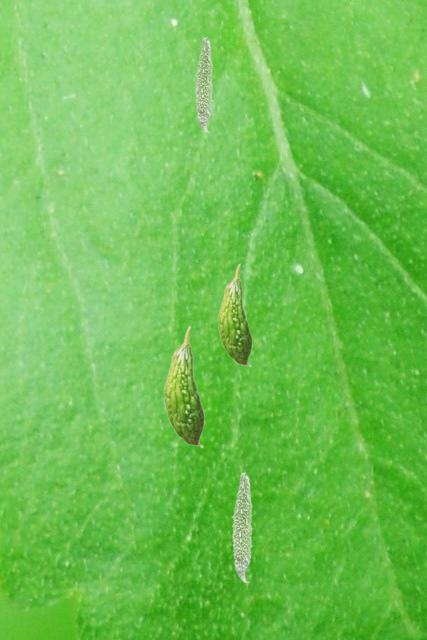ampalaya: (162, 325, 205, 448), (216, 263, 252, 367), (231, 471, 253, 583), (194, 36, 213, 132)
